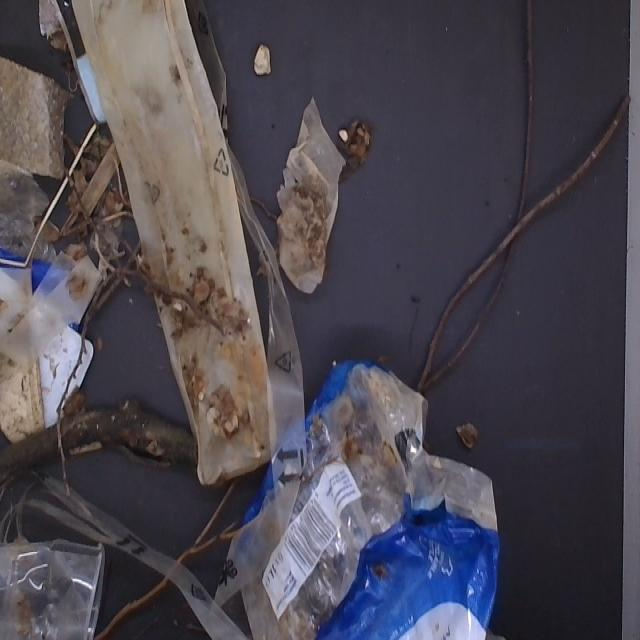food_wrapping: (213, 393, 519, 640)
plastic_cups: (0, 516, 114, 640)
styrofoam: (53, 1, 306, 481), (0, 174, 102, 356), (281, 88, 345, 302), (1, 52, 74, 210)
